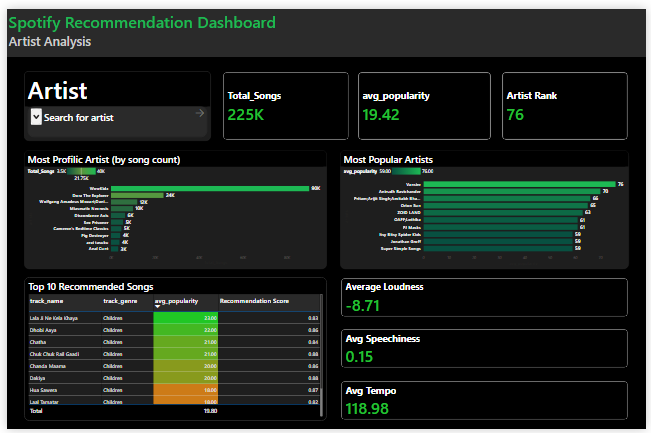

The dashboard page shown, as its layout file describes it:
{"tool":"powerbi","page":{"name":"Page 3","canvas":[2130,1400],"ordinal":2},"visuals":[{"type":"cardVisual","fields":{"Data":["fact_table.Total_Songs"]},"box":[716.7,206.7,426.7,233.3],"z":0},{"type":"cardVisual","fields":{"Data":["fact_table.avg_popularity"]},"box":[1166.7,206.7,450,233.3],"z":1000},{"type":"cardVisual","fields":{"Data":["fact_table.Artist Rank"]},"box":[1646.7,206.7,426.7,233.3],"z":2000},{"type":"textSlicer","title":"Artist","fields":{"Values":["dim_genre.track_genre"]},"box":[56.7,206.7,623.3,233.3],"z":3000},{"type":"clusteredBarChart","title":"Most Profilic Artist (by song count)","fields":{"Y":["fact_table.Total_Songs"],"Category":["dim_artist.artists"]},"box":[56.7,470,1010,396.7],"z":4000},{"type":"clusteredBarChart","title":"Most Popular Artists","fields":{"Category":["dim_artist.artists"],"Y":["fact_table.avg_popularity"]},"box":[1110,470,963.3,396.7],"z":5000},{"type":"tableEx","title":"Top 10 Recommended Songs","fields":{"Values":["fact_table.track_name","dim_genre.track_genre","fact_table.avg_popularity","fact_table.Recommendation Score"]},"box":[56.7,893.3,1010,480],"z":6000},{"type":"cardVisual","fields":{"Data":["fact_table.Average Loudness"]},"box":[1110,893.3,963.3,136.7],"z":7000},{"type":"cardVisual","fields":{"Data":["fact_table.Avg Speechiness","fact_table.Avg Speechiness"]},"box":[1110,1063.3,963.3,136.7],"z":8000},{"type":"cardVisual","fields":{"Data":["fact_table.Avg Tempo"]},"box":[1110,1236.7,963.3,136.7],"z":9000},{"type":"textbox","box":[0,0,2130,160],"z":10000}]}

Visuals, with their boxes in screenshot pixels (x1, y1, x2, y2), scaled from the page's 2130x1400 canvas onto the 651x433 screenshot:
cardVisual - fact_table.Total_Songs: box(219, 64, 349, 136)
cardVisual - fact_table.avg_popularity: box(357, 64, 494, 136)
cardVisual - fact_table.Artist Rank: box(503, 64, 634, 136)
"Artist" textSlicer: box(17, 64, 208, 136)
"Most Profilic Artist (by song count)" clusteredBarChart: box(17, 145, 326, 268)
"Most Popular Artists" clusteredBarChart: box(339, 145, 634, 268)
"Top 10 Recommended Songs" tableEx: box(17, 276, 326, 425)
cardVisual - fact_table.Average Loudness: box(339, 276, 634, 319)
cardVisual - fact_table.Avg Speechiness x fact_table.Avg Speechiness: box(339, 329, 634, 371)
cardVisual - fact_table.Avg Tempo: box(339, 382, 634, 425)
textbox: box(0, 0, 650, 49)
